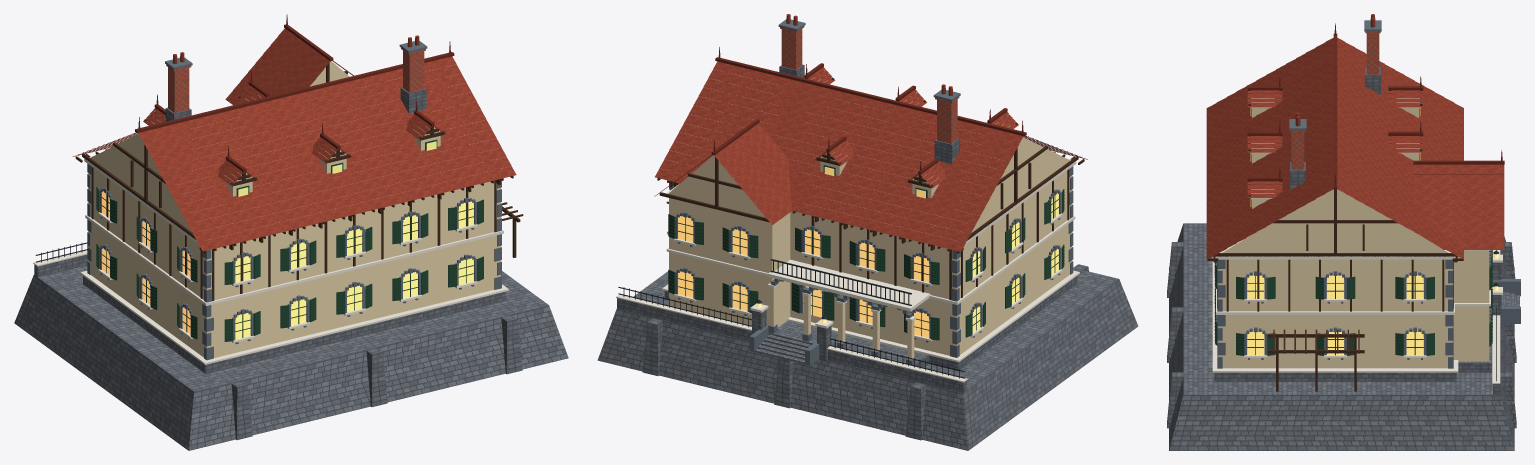
The model's file is fv_tqd_05_tran_quang_dieu_02_royal_guard_manor.glb.
3 renders of one model, left to right at view 1: azimuth 30°, elevation 25°; view 2: azimuth 150°, elevation 25°; view 3: azimuth 270°, elevation 25°, orthographic. The views are drawn at different scales.
Parts seen in each view (by area): view 1: Foundation_Skirt_Neg3p5m, Normandy_Brittany_Layered_Roof, Villa_Stucco_Walls, PineGreen_Louvered_Shutters, Molded_Cornices_And_Sills, Stone_Quoins_And_Arches, Exposed_Timber_Trusses_And_Rafters, Warm_Night_Windows_20h00_Blend, Roof_Ridges_Caps_And_Finials, Brick_Chimney_Stacks; view 2: Foundation_Skirt_Neg3p5m, Normandy_Brittany_Layered_Roof, Villa_Stucco_Walls, Molded_Cornices_And_Sills, PineGreen_Louvered_Shutters, Stone_Quoins_And_Arches, Warm_Night_Windows_20h00_Blend, Exposed_Timber_Trusses_And_Rafters, Roof_Ridges_Caps_And_Finials, Wrought_Iron_Balustrades_And_Gate, Brick_Chimney_Stacks; view 3: Normandy_Brittany_Layered_Roof, Foundation_Skirt_Neg3p5m, Villa_Stucco_Walls, Molded_Cornices_And_Sills, Exposed_Timber_Trusses_And_Rafters, Stone_Quoins_And_Arches, PineGreen_Louvered_Shutters, Roof_Ridges_Caps_And_Finials, Warm_Night_Windows_20h00_Blend, Brick_Chimney_Stacks.
Part boxes in pixels (x1,y1,x2,y2): Foundation_Skirt_Neg3p5m: (14,87,568,450); Normandy_Brittany_Layered_Roof: (138,28,516,251); Villa_Stucco_Walls: (88,61,500,357); PineGreen_Louvered_Shutters: (96,139,483,341); Molded_Cornices_And_Sills: (33,91,508,364); Stone_Quoins_And_Arches: (87,41,501,360); Exposed_Timber_Trusses_And_Rafters: (75,63,523,300); Warm_Night_Windows_20h00_Blend: (102,141,473,339); Roof_Ridges_Caps_And_Finials: (72,14,454,179); Brick_Chimney_Stacks: (166,48,425,112); Foundation_Skirt_Neg3p5m: (597,64,1138,450); Normandy_Brittany_Layered_Roof: (655,14,1023,251); Villa_Stucco_Walls: (668,104,1072,360); Molded_Cornices_And_Sills: (616,77,1079,382); PineGreen_Louvered_Shutters: (668,165,1064,340); Stone_Quoins_And_Arches: (669,19,1073,365); Warm_Night_Windows_20h00_Blend: (678,167,1058,337); Exposed_Timber_Trusses_And_Rafters: (657,67,1084,299); Roof_Ridges_Caps_And_Finials: (654,47,1087,196); Wrought_Iron_Balustrades_And_Gate: (618,259,965,378); Brick_Chimney_Stacks: (780,26,959,143); Normandy_Brittany_Layered_Roof: (1206,14,1504,259); Foundation_Skirt_Neg3p5m: (1167,66,1519,450); Villa_Stucco_Walls: (1218,108,1489,368); Molded_Cornices_And_Sills: (1212,98,1502,383); Exposed_Timber_Trusses_And_Rafters: (1207,90,1497,391); Stone_Quoins_And_Arches: (1215,20,1520,368); PineGreen_Louvered_Shutters: (1214,108,1492,355); Roof_Ridges_Caps_And_Finials: (1247,23,1504,189); Warm_Night_Windows_20h00_Blend: (1247,107,1498,354); Brick_Chimney_Stacks: (1290,31,1380,169).
Size of the model in its own units: 27.93 by 20.6 by 22.32.
12 materials, 3 textured.
